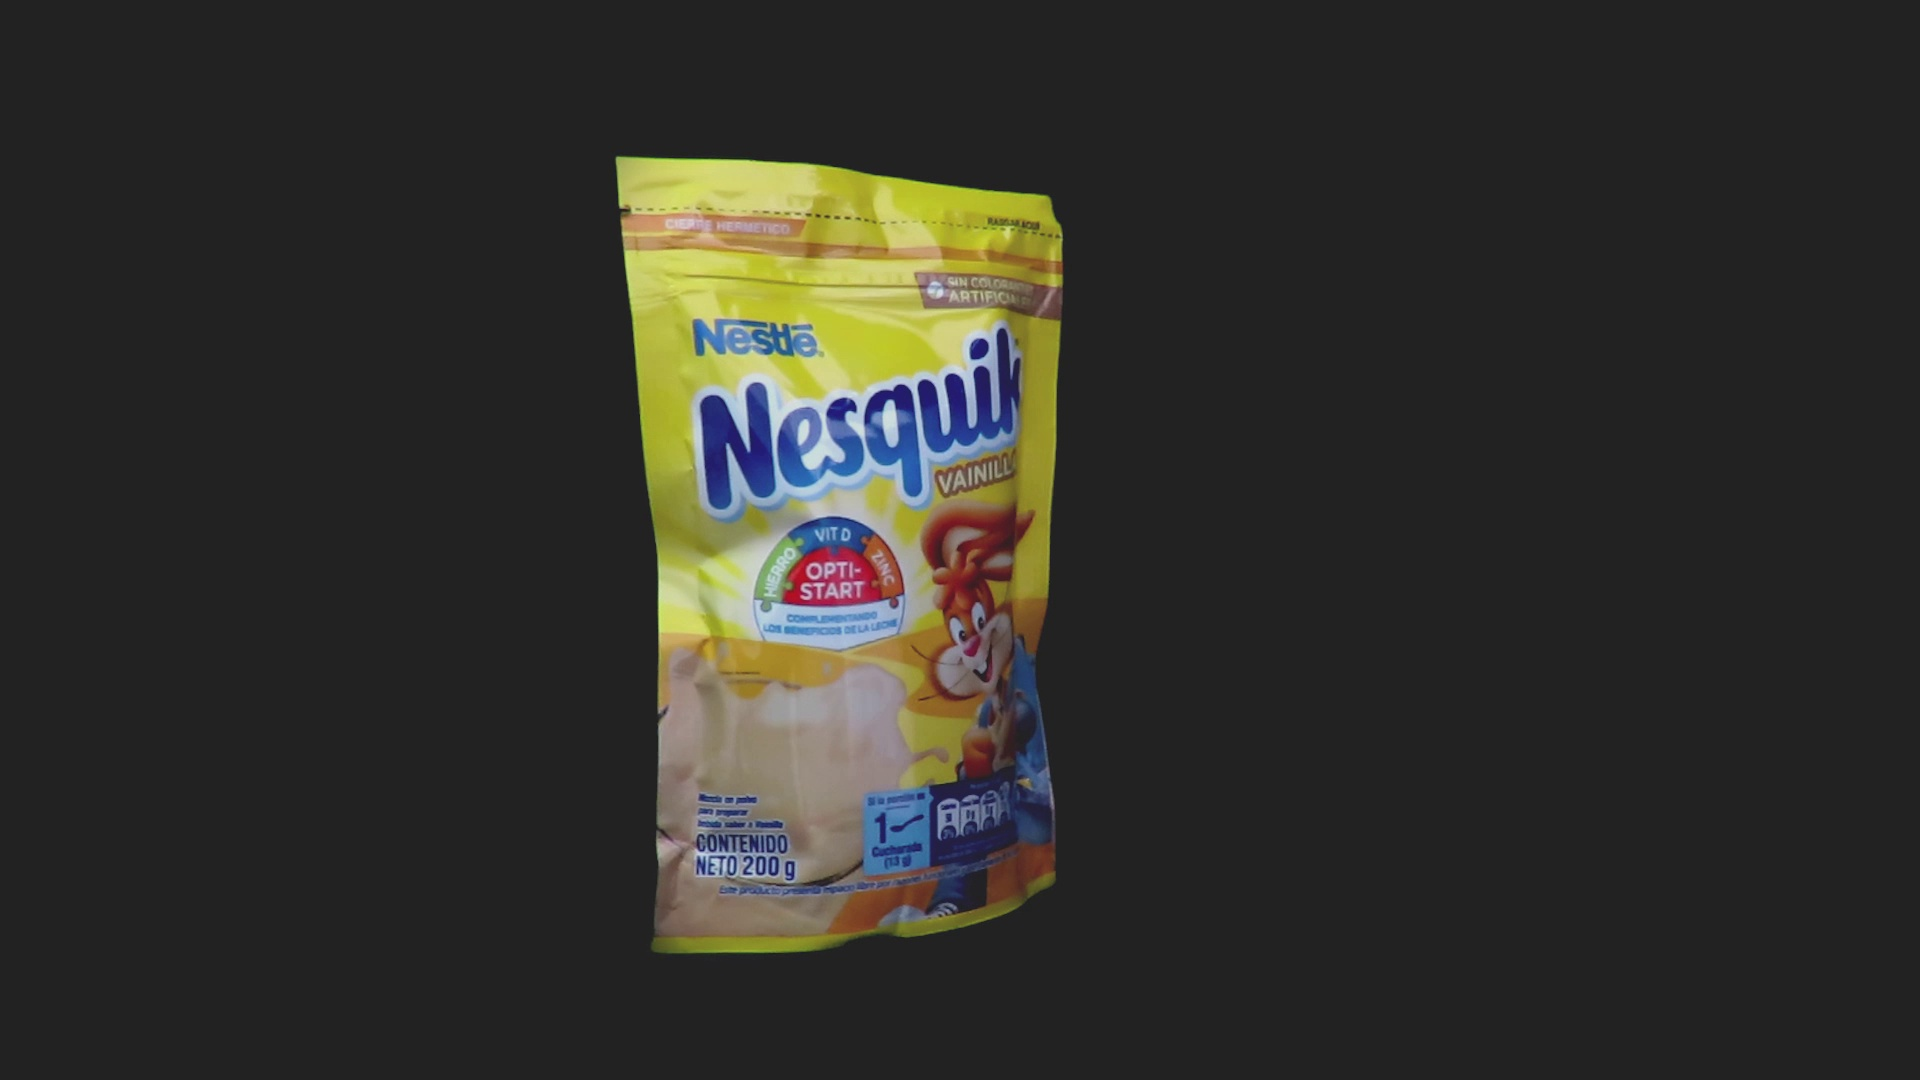COL0170306DYP20000: (611, 152, 1069, 960)
